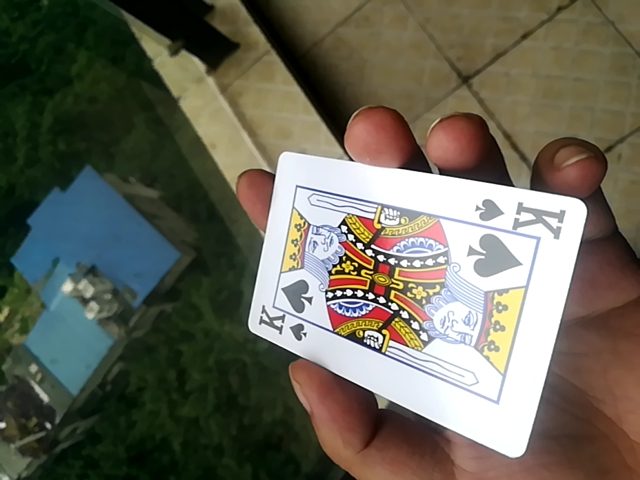ht k: (242, 147, 585, 463)
